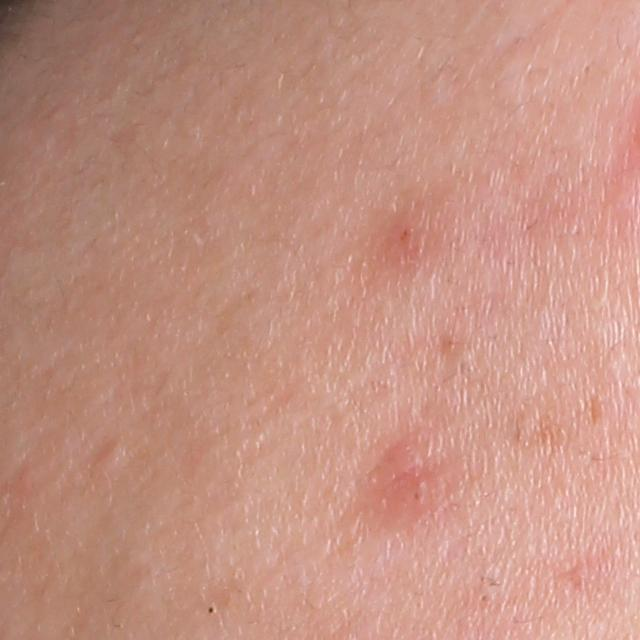comedo: (472, 588, 497, 608)
papule: (372, 441, 444, 516)
